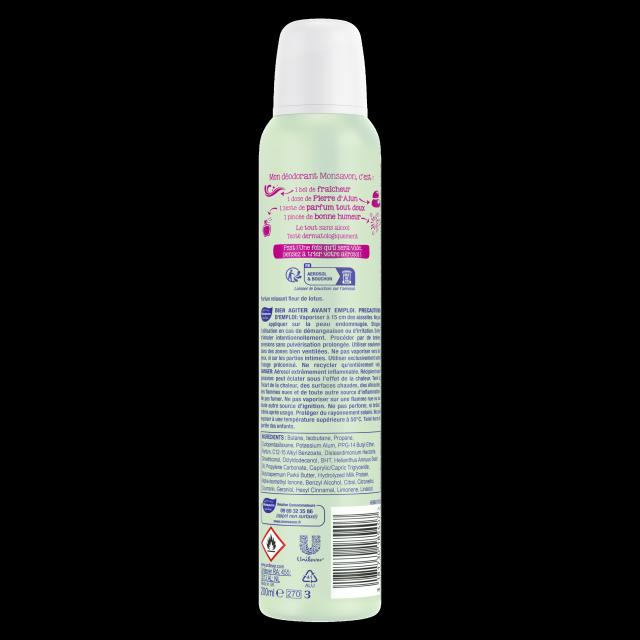GHS_Symbol_FLAME: (260, 526, 284, 562)
